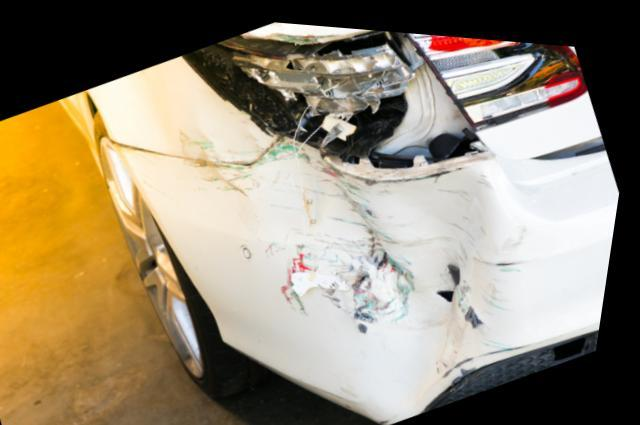dent: (228, 135, 509, 417), (115, 53, 282, 163), (240, 17, 353, 33)
lamp broken: (180, 24, 588, 160)
